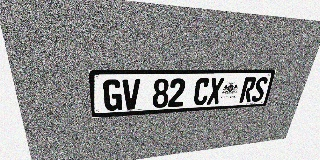2: (168, 78, 186, 107)
8: (152, 78, 170, 108)
C: (193, 78, 211, 106)
G: (103, 79, 122, 111)
R: (239, 77, 257, 103)
S: (251, 77, 269, 102)
V: (122, 79, 140, 110)
X: (206, 78, 224, 105)
